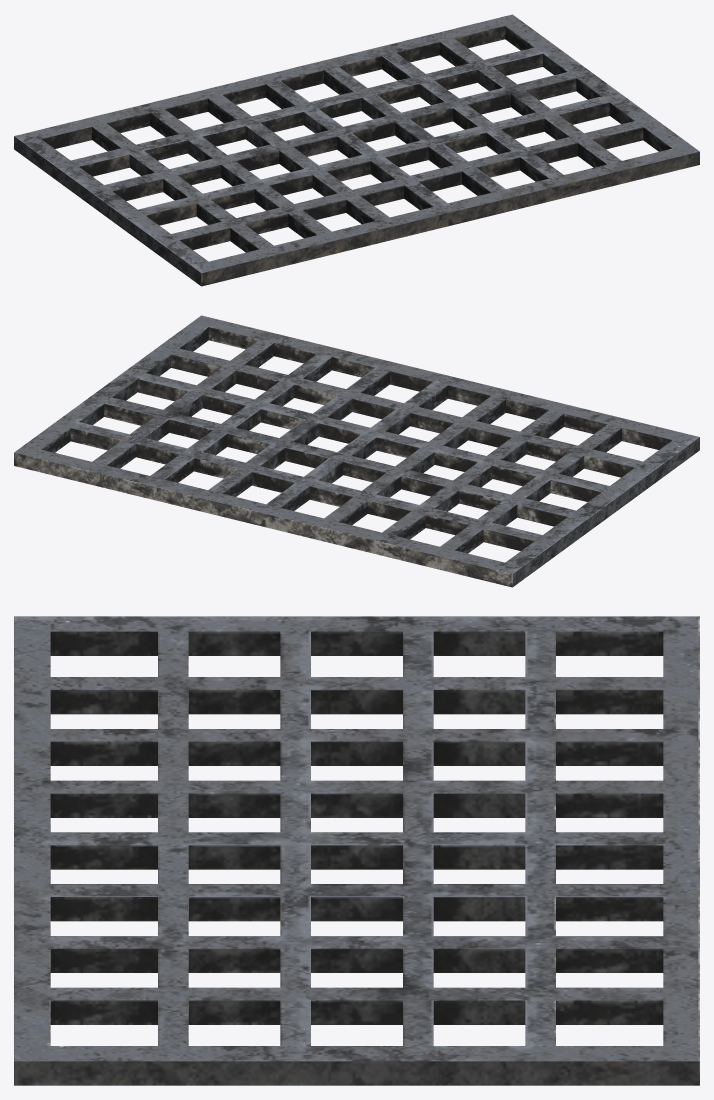
The model's file is eq_WeldTable.fbx.
3 views of the same model, one above another, from view 1: azimuth 30°, elevation 25°; view 2: azimuth 150°, elevation 25°; view 3: azimuth 270°, elevation 25° (orthographic). The views are drawn at different scales.
Visible parts, largest first — view 1: WeldTable; view 2: WeldTable; view 3: WeldTable.
Boxes of the visible parts, x1,y1,x2,y2 form: WeldTable: (14,14,699,286); WeldTable: (14,315,699,587); WeldTable: (14,616,699,1085).
Size of the model in its own units: 2.12 by 0.0538 by 1.38.
